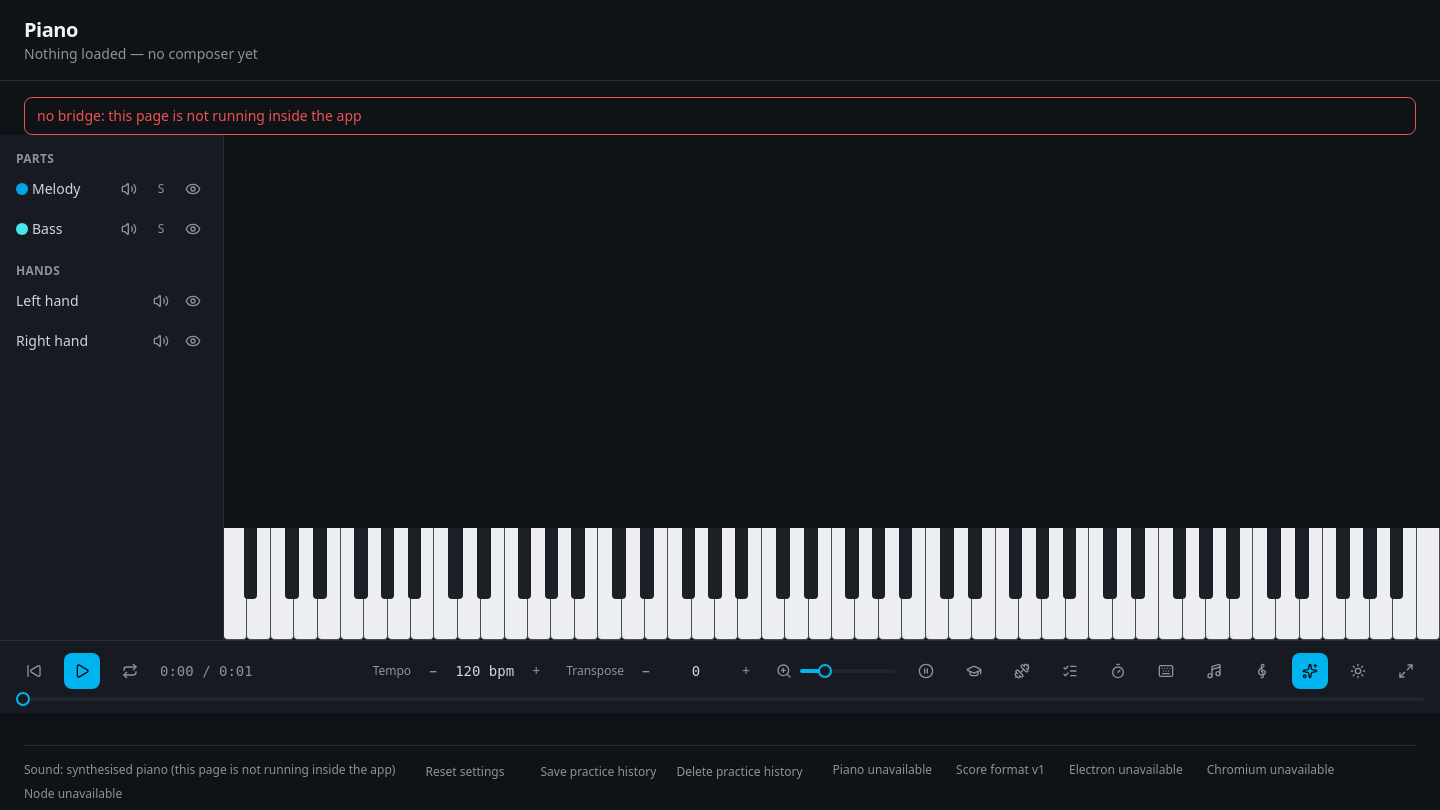
Test: the app › sets every knob a level names when one is chosen
The width and height of the screenshot is (1440, 810).
Click the button named "Level": (974, 671) x1=956 y1=653 x2=992 y2=689
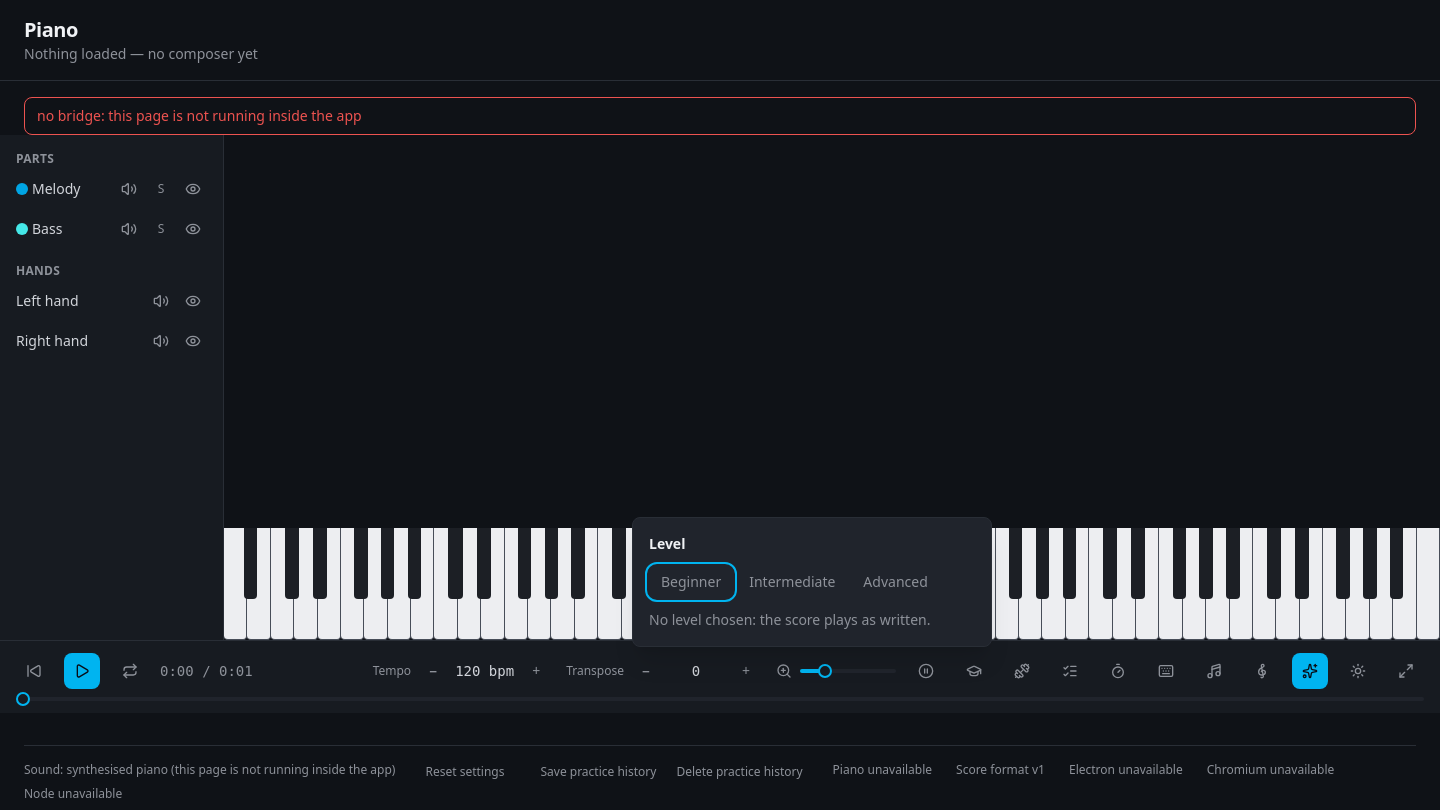
Expected: the heading "Level" is shown, x1=649 y1=534 x2=685 y2=553
Click the button "Beginner": (691, 582) x1=649 y1=566 x2=733 y2=598
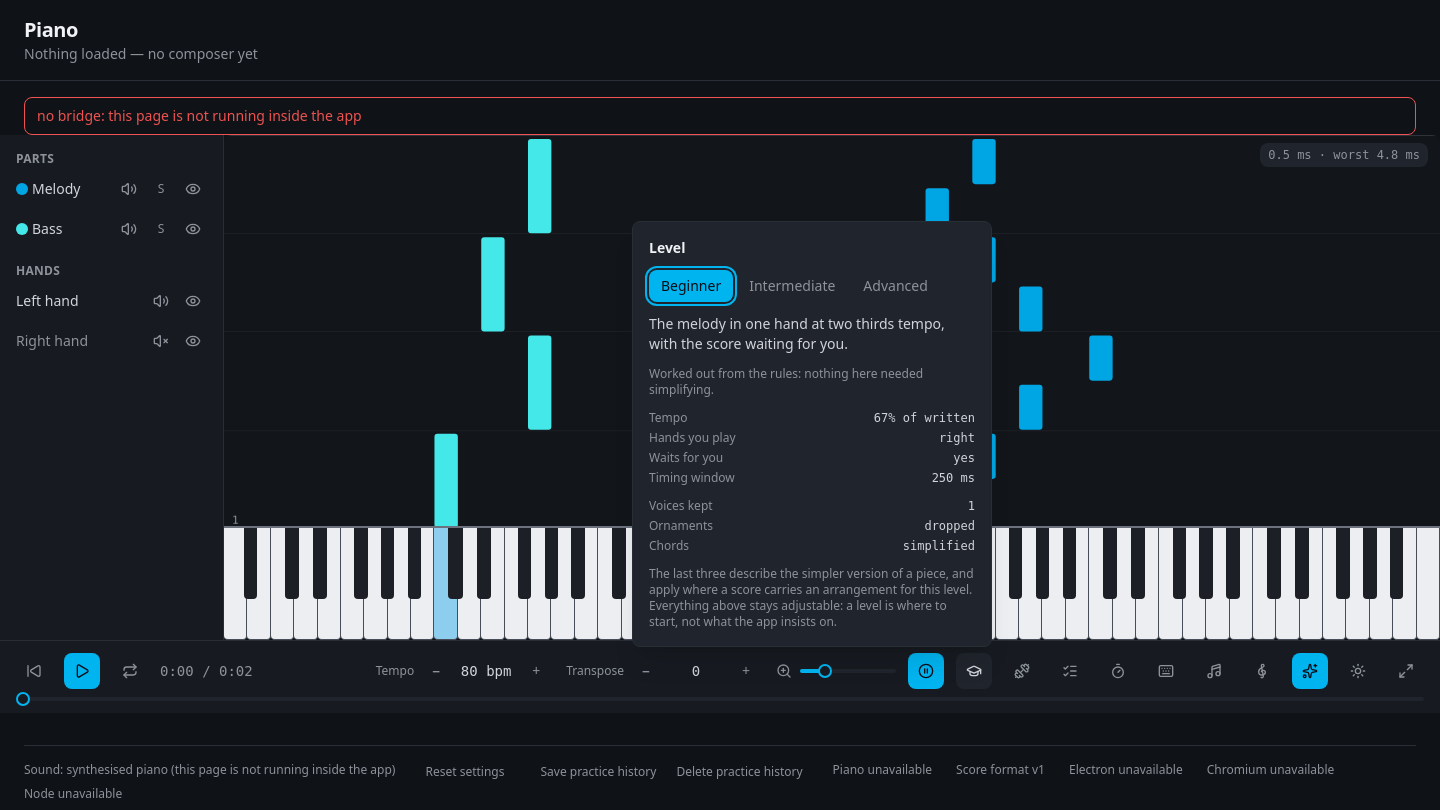
Expected: the text with test id "Tempo" reads "80 bpm", x1=461 y1=663 x2=512 y2=679
Expected: the text with test id "knob-hands-you-play" reads "right", x1=939 y1=431 x2=975 y2=445
